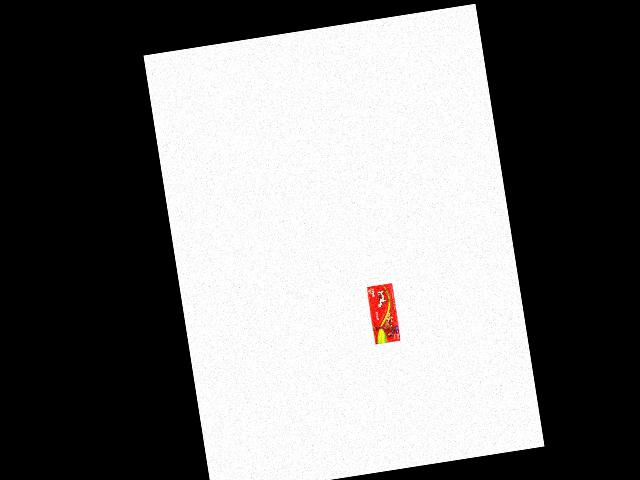chocolate: (363, 278, 406, 346)
